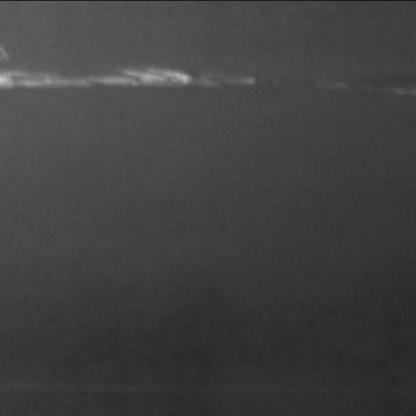scratches: (2, 57, 260, 92)
